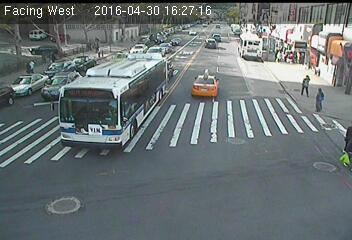neg: (189, 79, 204, 99), (235, 115, 250, 135), (88, 116, 101, 134), (232, 58, 244, 73), (258, 80, 269, 94), (111, 32, 121, 44), (65, 34, 73, 46), (170, 35, 178, 46)
pos: (334, 122, 351, 164), (308, 84, 331, 115), (297, 72, 314, 94), (22, 58, 34, 76), (274, 49, 284, 63)
